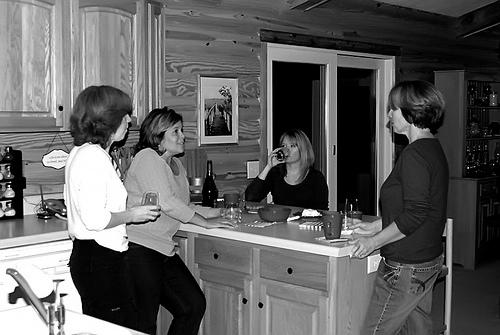bottle: (195, 155, 231, 211)
cup: (139, 189, 174, 221), (319, 209, 348, 243), (221, 197, 247, 228), (349, 201, 371, 224), (272, 145, 293, 162)
